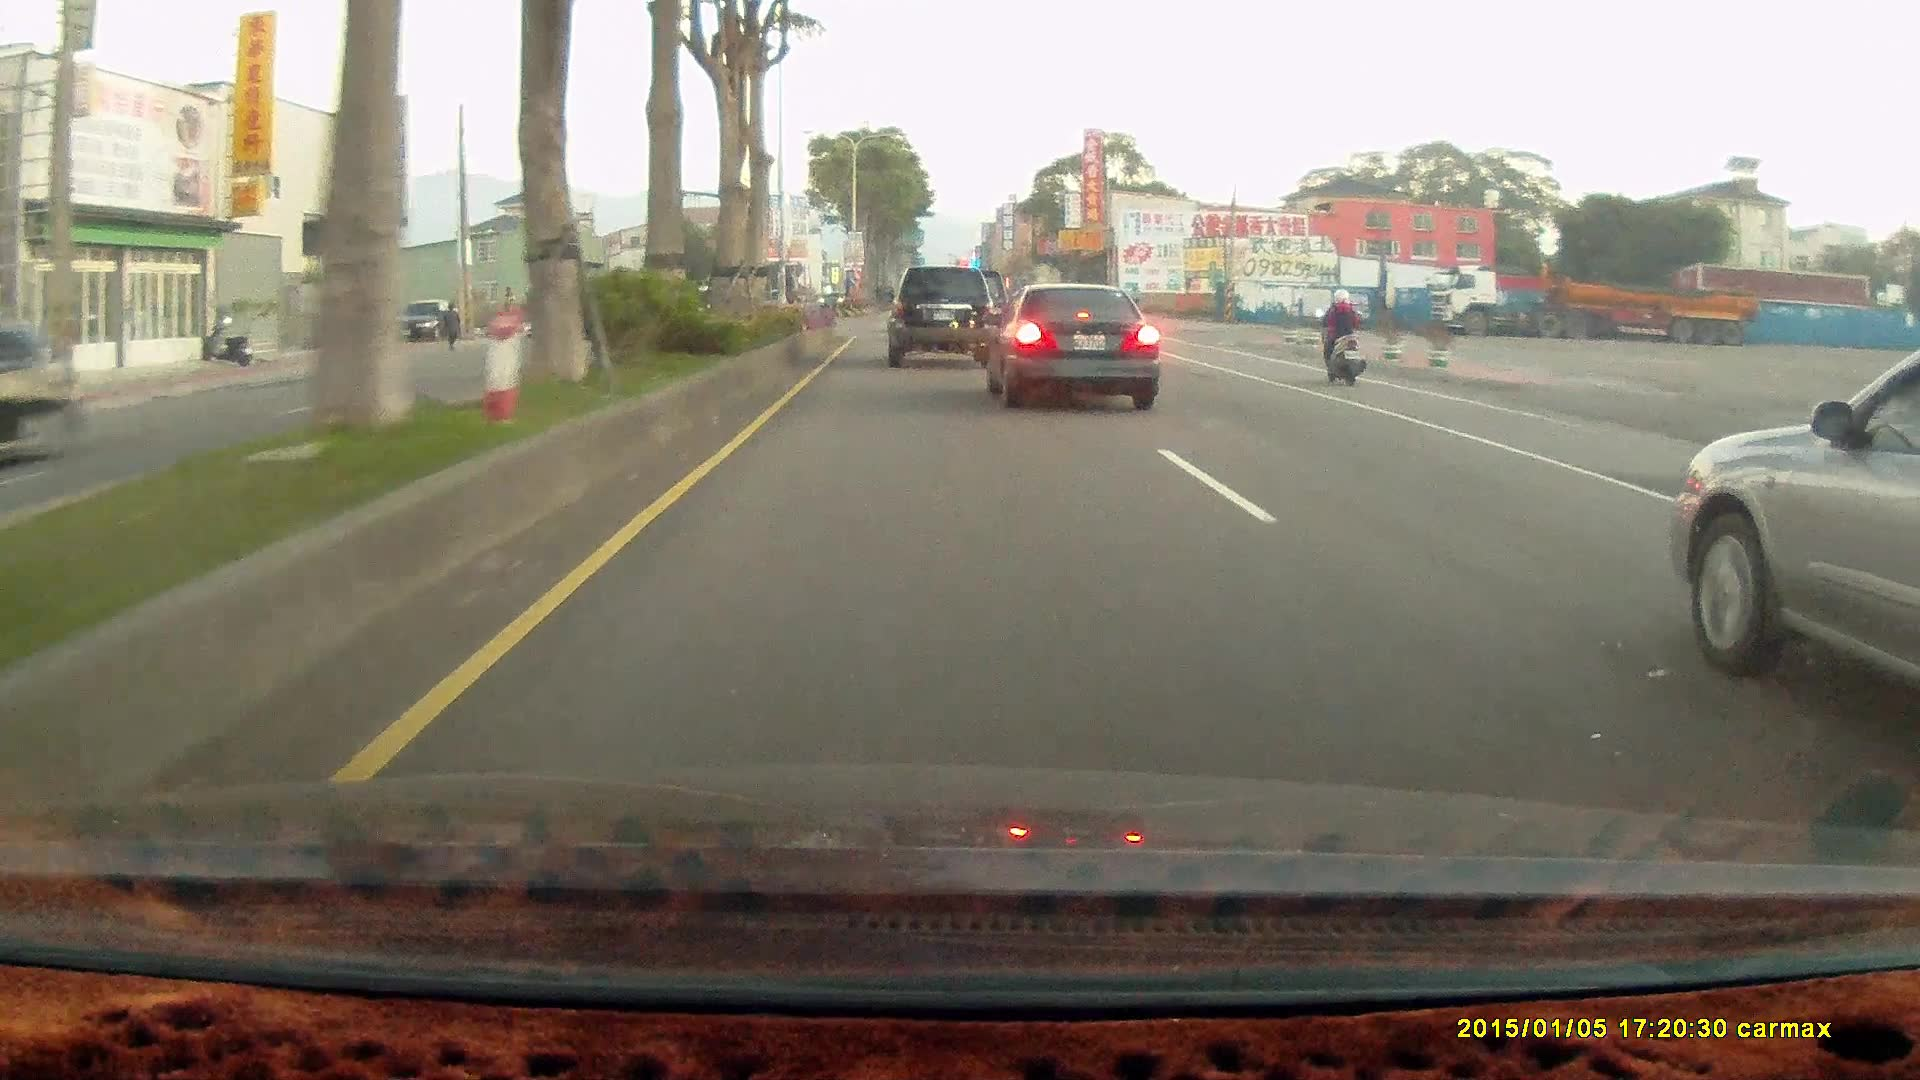pedestrian: (440, 300, 461, 350)
rider: (1308, 283, 1376, 391), (1312, 285, 1366, 383)
vehicle: (1666, 338, 1920, 726), (1423, 266, 1755, 345), (983, 282, 1162, 413), (984, 283, 1158, 407), (880, 262, 1000, 366), (881, 264, 995, 365), (1, 322, 80, 468), (387, 298, 459, 346)
